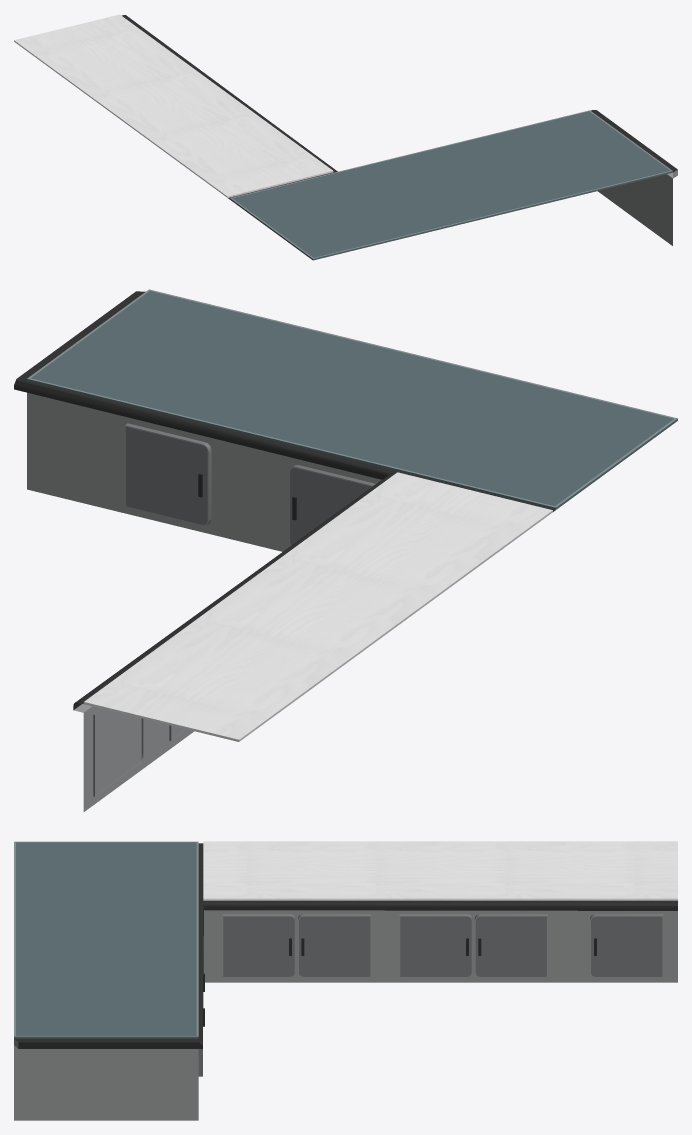
The model's file is Meson-2.FBX.
3 renders of one model, top to bottom at view 1: azimuth 30°, elevation 25°; view 2: azimuth 150°, elevation 25°; view 3: azimuth 270°, elevation 25°, orthographic. The views are drawn at different scales.
Parts seen in each view (by area): view 1: Box006; view 2: Box006; view 3: Box006.
Part boxes in pixels (x1,y1,x2,y2): Box006: (14, 14, 677, 260); Box006: (14, 289, 677, 811); Box006: (14, 841, 677, 1120).
Size of the model in its own units: 480 by 676 by 94.13.
